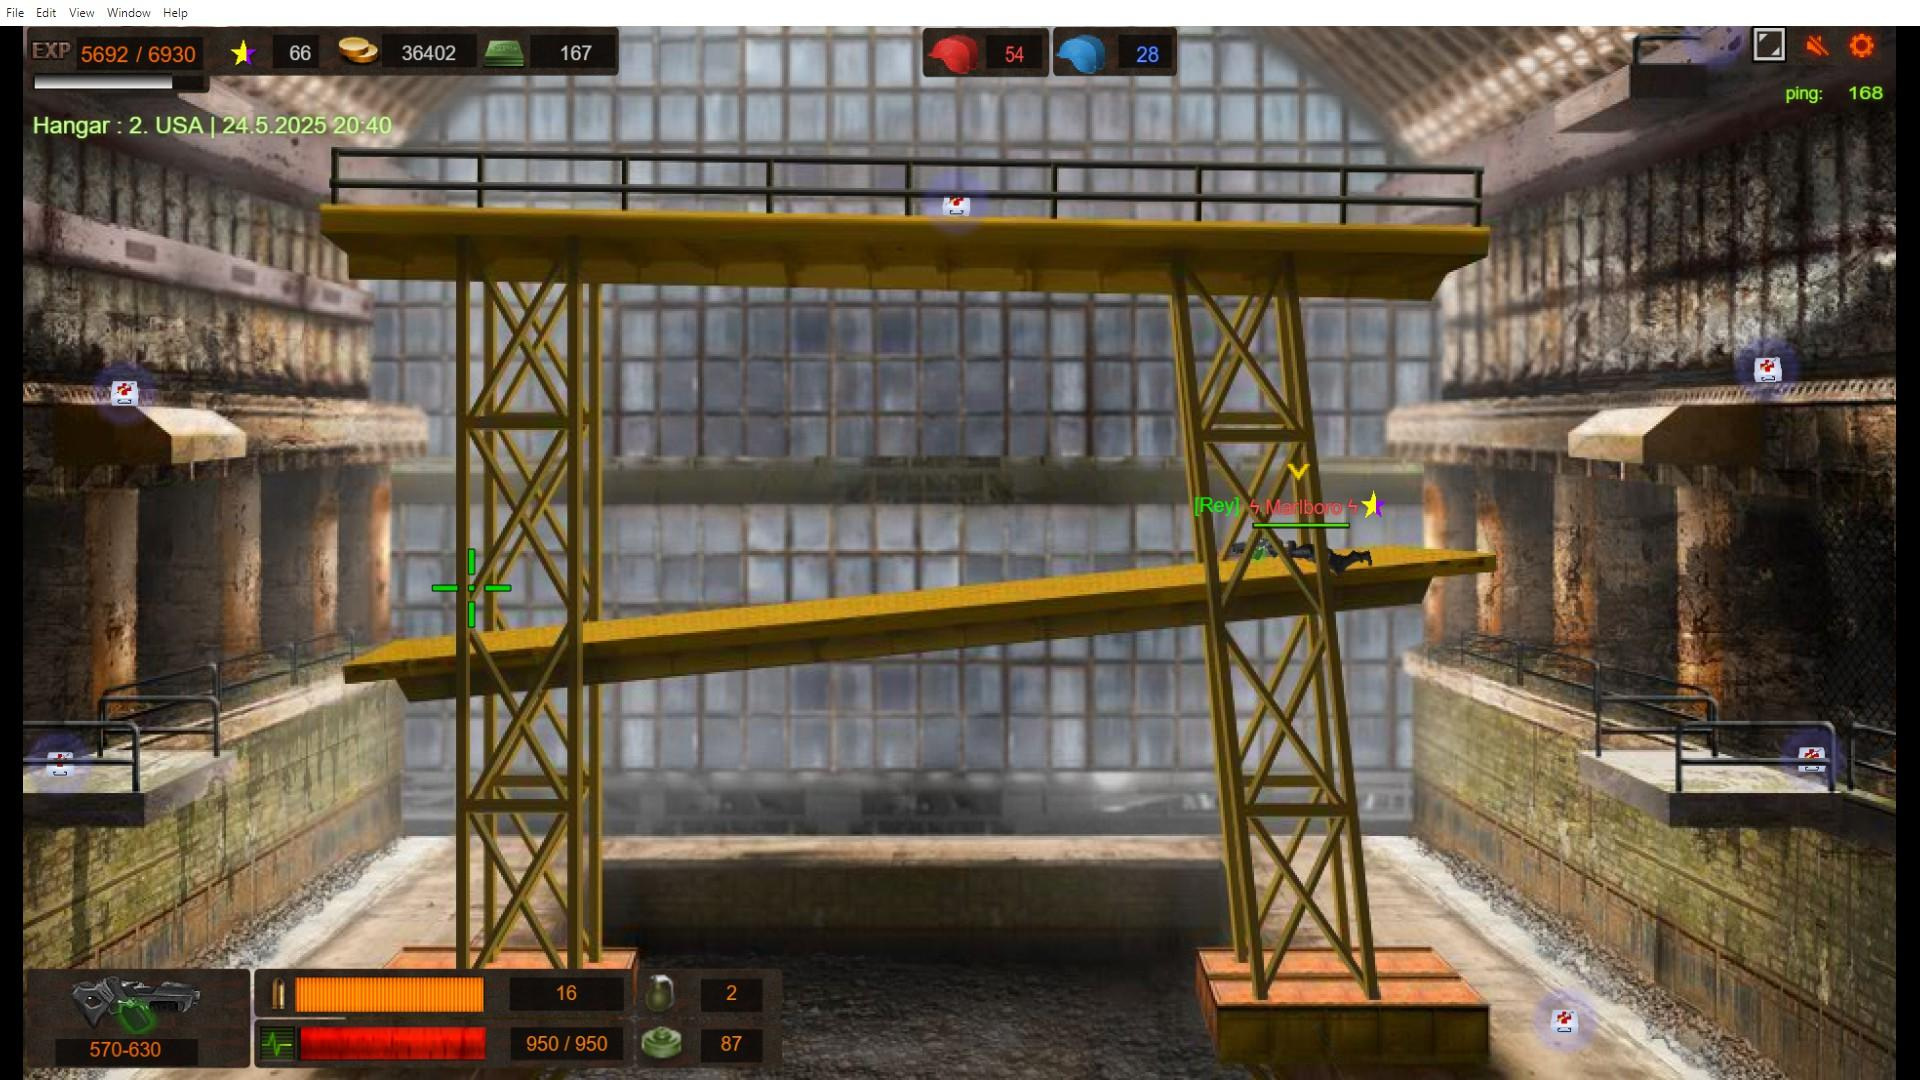enemy: (1282, 539, 1366, 570)
